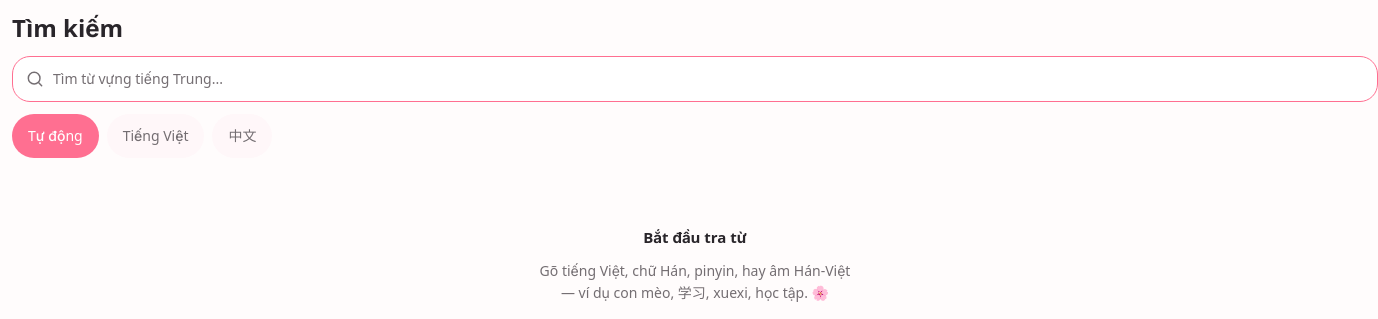
Test: nút hiện đúng lúc nó làm được việc › KHÔNG hiện khi không có kết quả nào
The image size is (1378, 319).
In the search field: point(709, 79) 53,57 -> 1365,101, type "bác sĩ"
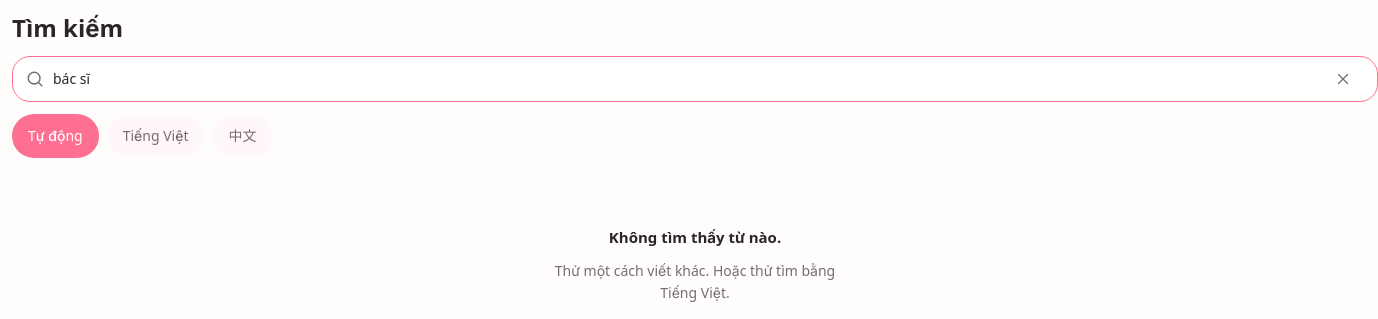
Now the heading "Không tìm thấy từ nào." is shown, box 609,226 -> 781,248
